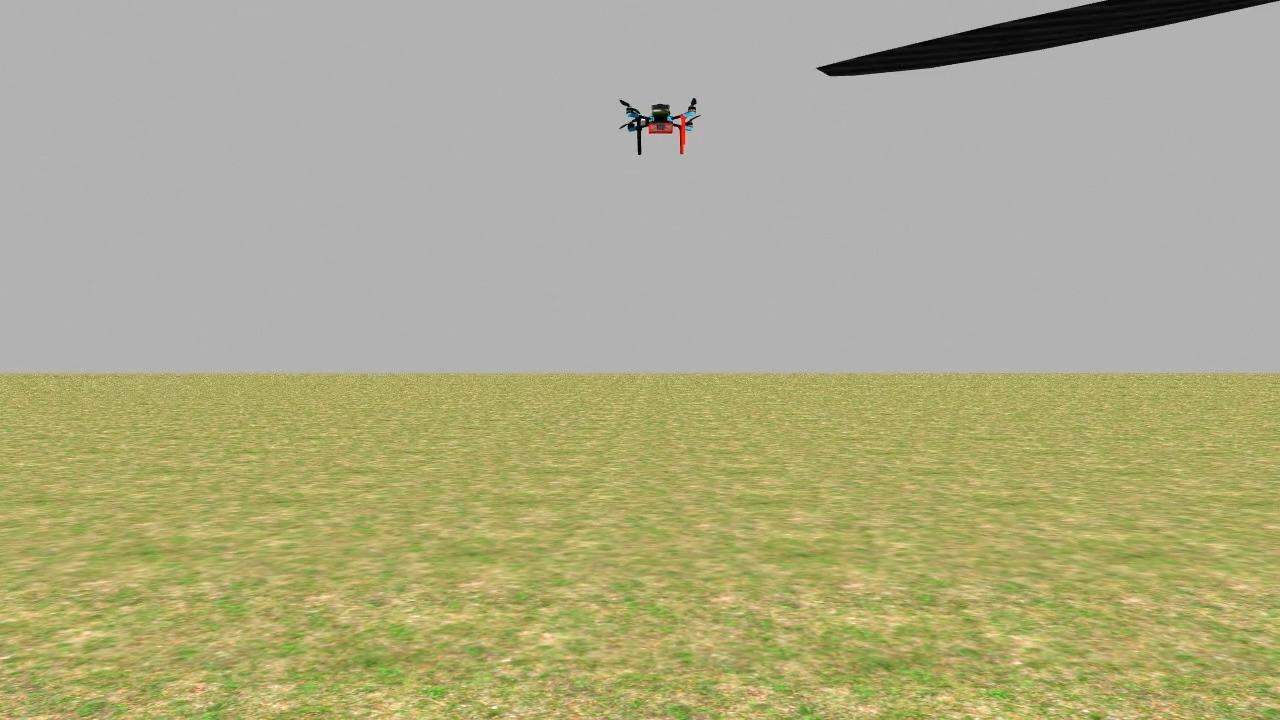UAV: (582, 78, 729, 169)
